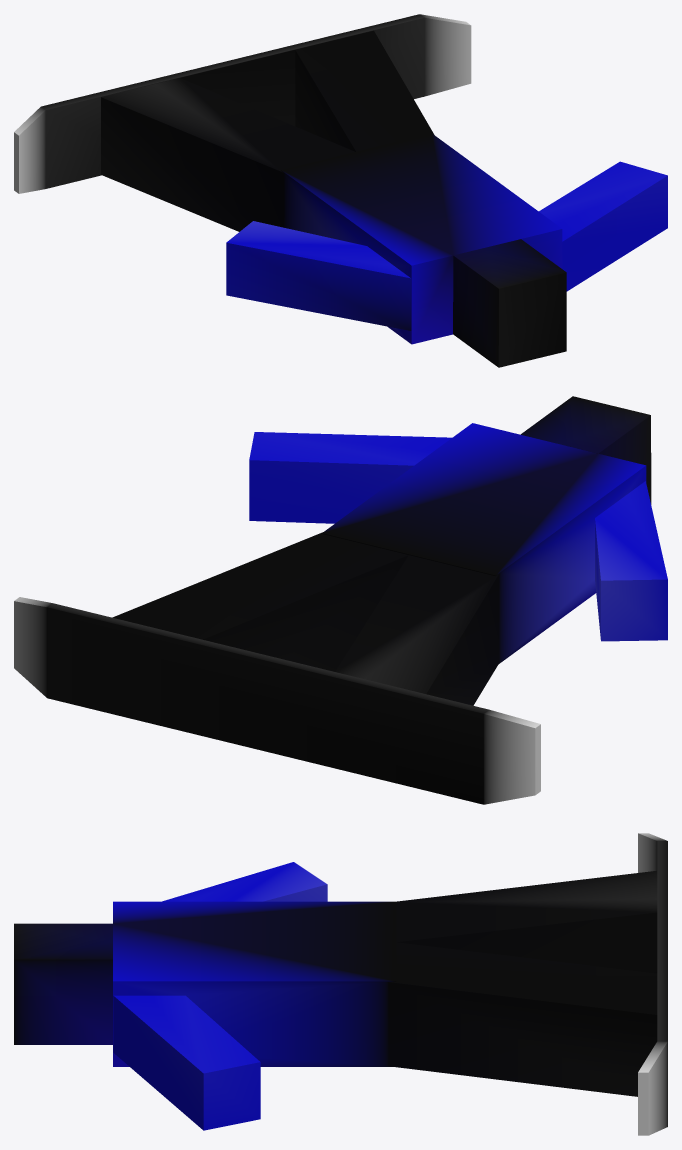
The model's file is snowboarder.glb.
3 renders of one model, top to bottom at view 1: azimuth 30°, elevation 25°; view 2: azimuth 150°, elevation 25°; view 3: azimuth 270°, elevation 25°, orthographic. The views are drawn at different scales.
Parts seen in each view (by area): view 1: Cube; view 2: Cube; view 3: Cube.
Boxes of the visible parts, box(x1,y1,x2,y2) form: Cube: box(14, 14, 667, 367); Cube: box(14, 396, 667, 804); Cube: box(14, 833, 667, 1135).
Size of the model in its own units: 5.57 by 0.9316 by 6.44.
